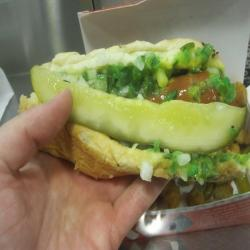burger: (13, 38, 245, 194)
